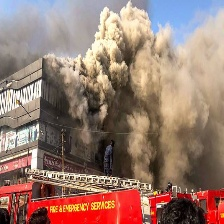smoke: (54, 1, 224, 176)
